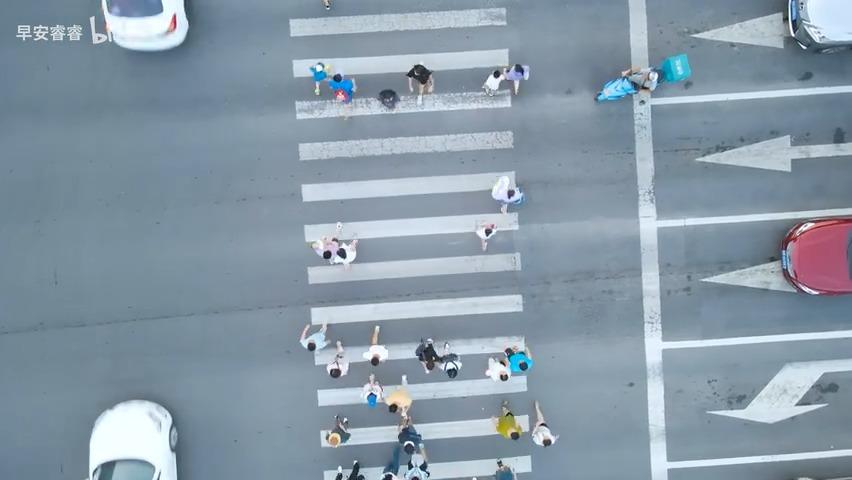Civilian: (381, 415, 429, 479), (328, 73, 357, 120), (531, 399, 559, 447), (491, 175, 524, 214), (491, 399, 522, 440), (405, 64, 434, 105), (362, 324, 388, 366), (299, 322, 331, 354), (621, 66, 659, 92), (330, 236, 358, 270), (415, 337, 440, 374), (326, 339, 350, 377), (502, 63, 530, 95), (438, 341, 462, 378), (502, 344, 532, 372), (308, 61, 331, 95), (327, 414, 351, 445), (360, 373, 384, 404), (474, 220, 497, 251), (310, 235, 338, 260), (484, 356, 510, 382), (481, 69, 505, 96), (335, 459, 365, 479), (492, 458, 517, 479), (378, 88, 399, 109)
